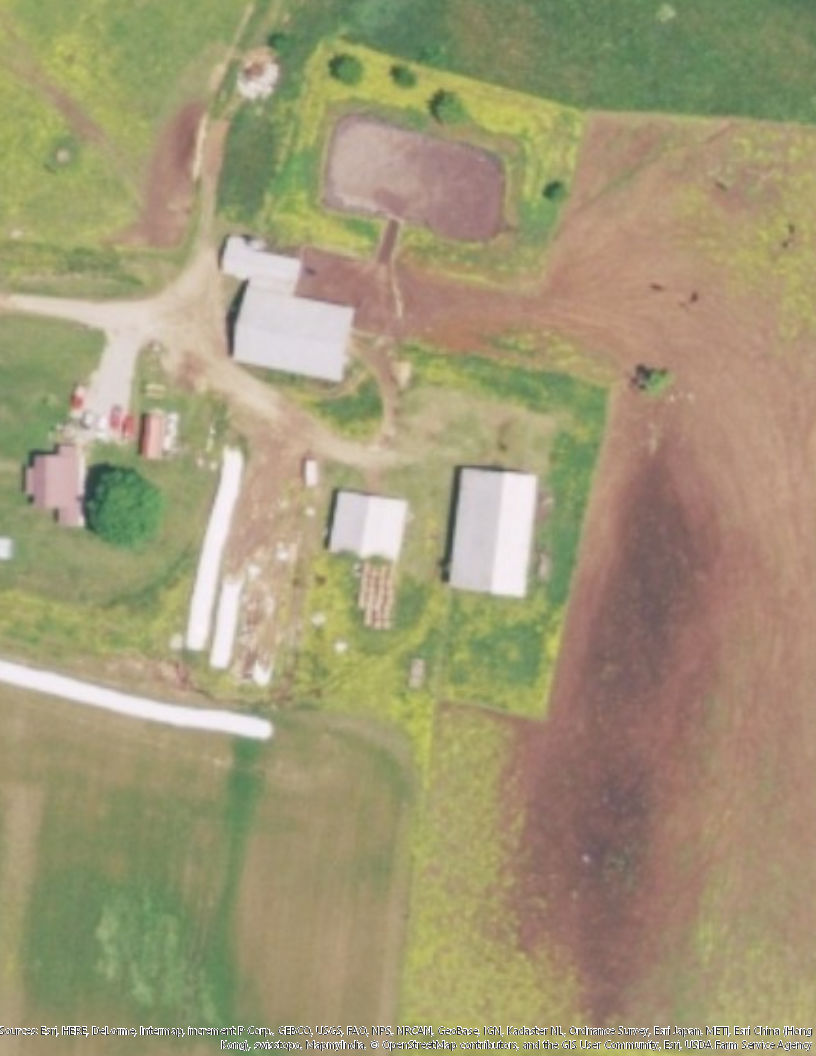cafo: (211, 231, 372, 389), (440, 459, 541, 608)
